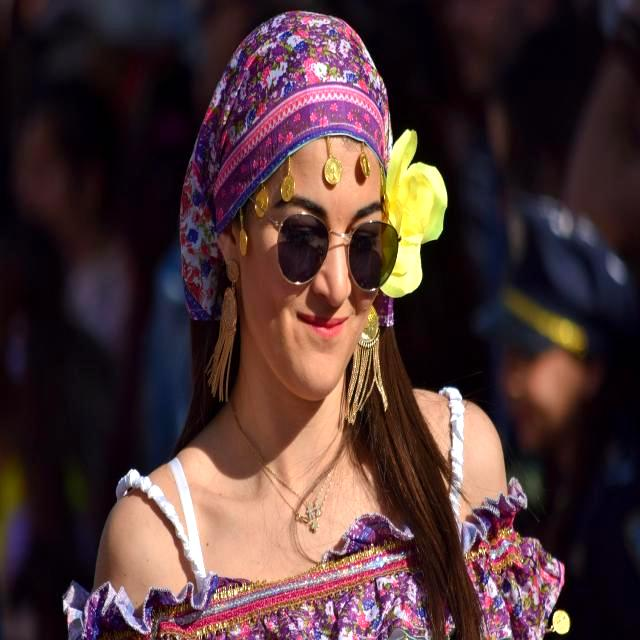no_hard_hat: (181, 11, 392, 323)
person: (84, 129, 541, 639)
